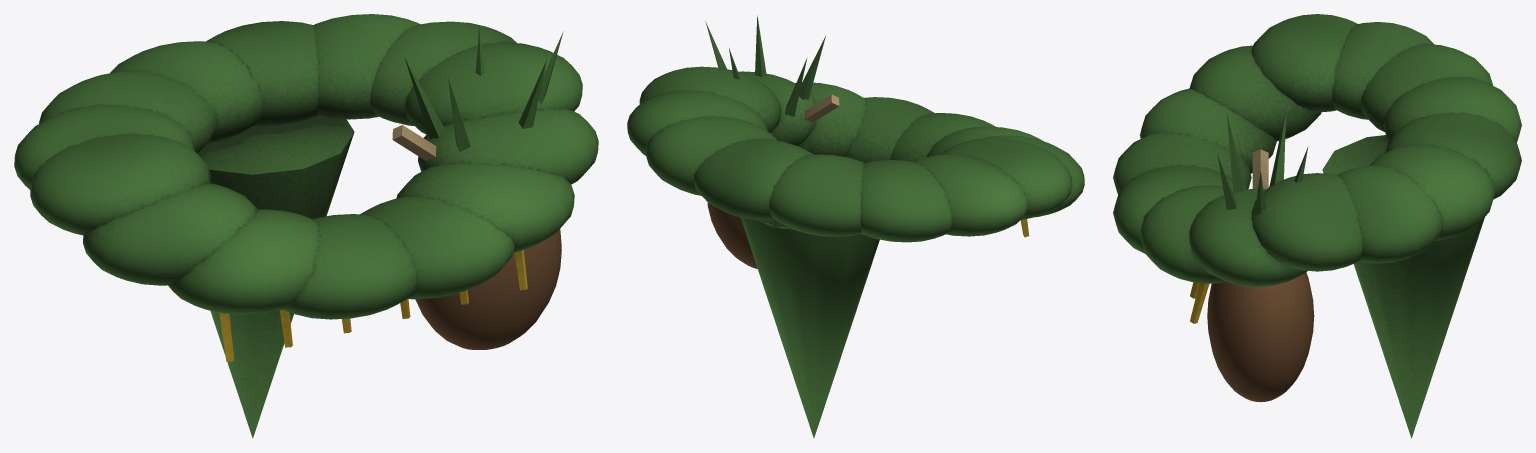
File: npc_curandeira.glb
3 renders of one model, left to right at view 1: azimuth 30°, elevation 25°; view 2: azimuth 150°, elevation 25°; view 3: azimuth 270°, elevation 25°, orthographic. The views are drawn at different scales.
Visible parts, largest first — view 1: curandeira_Spine2_peca, curandeira_Hips_peca; view 2: curandeira_Spine2_peca, curandeira_Hips_peca; view 3: curandeira_Spine2_peca, curandeira_Hips_peca.
Boxes of the visible parts, box(x1,y1,x2,y2) form: curandeira_Spine2_peca: box(14, 14, 598, 438); curandeira_Hips_peca: box(392, 26, 563, 349); curandeira_Spine2_peca: box(627, 66, 1084, 438); curandeira_Hips_peca: box(705, 15, 839, 268); curandeira_Spine2_peca: box(1113, 14, 1521, 438); curandeira_Hips_peca: box(1207, 108, 1314, 402).
Size of the model in its own units: 0.548 by 0.4069 by 0.413.
2 materials, 2 textured.
